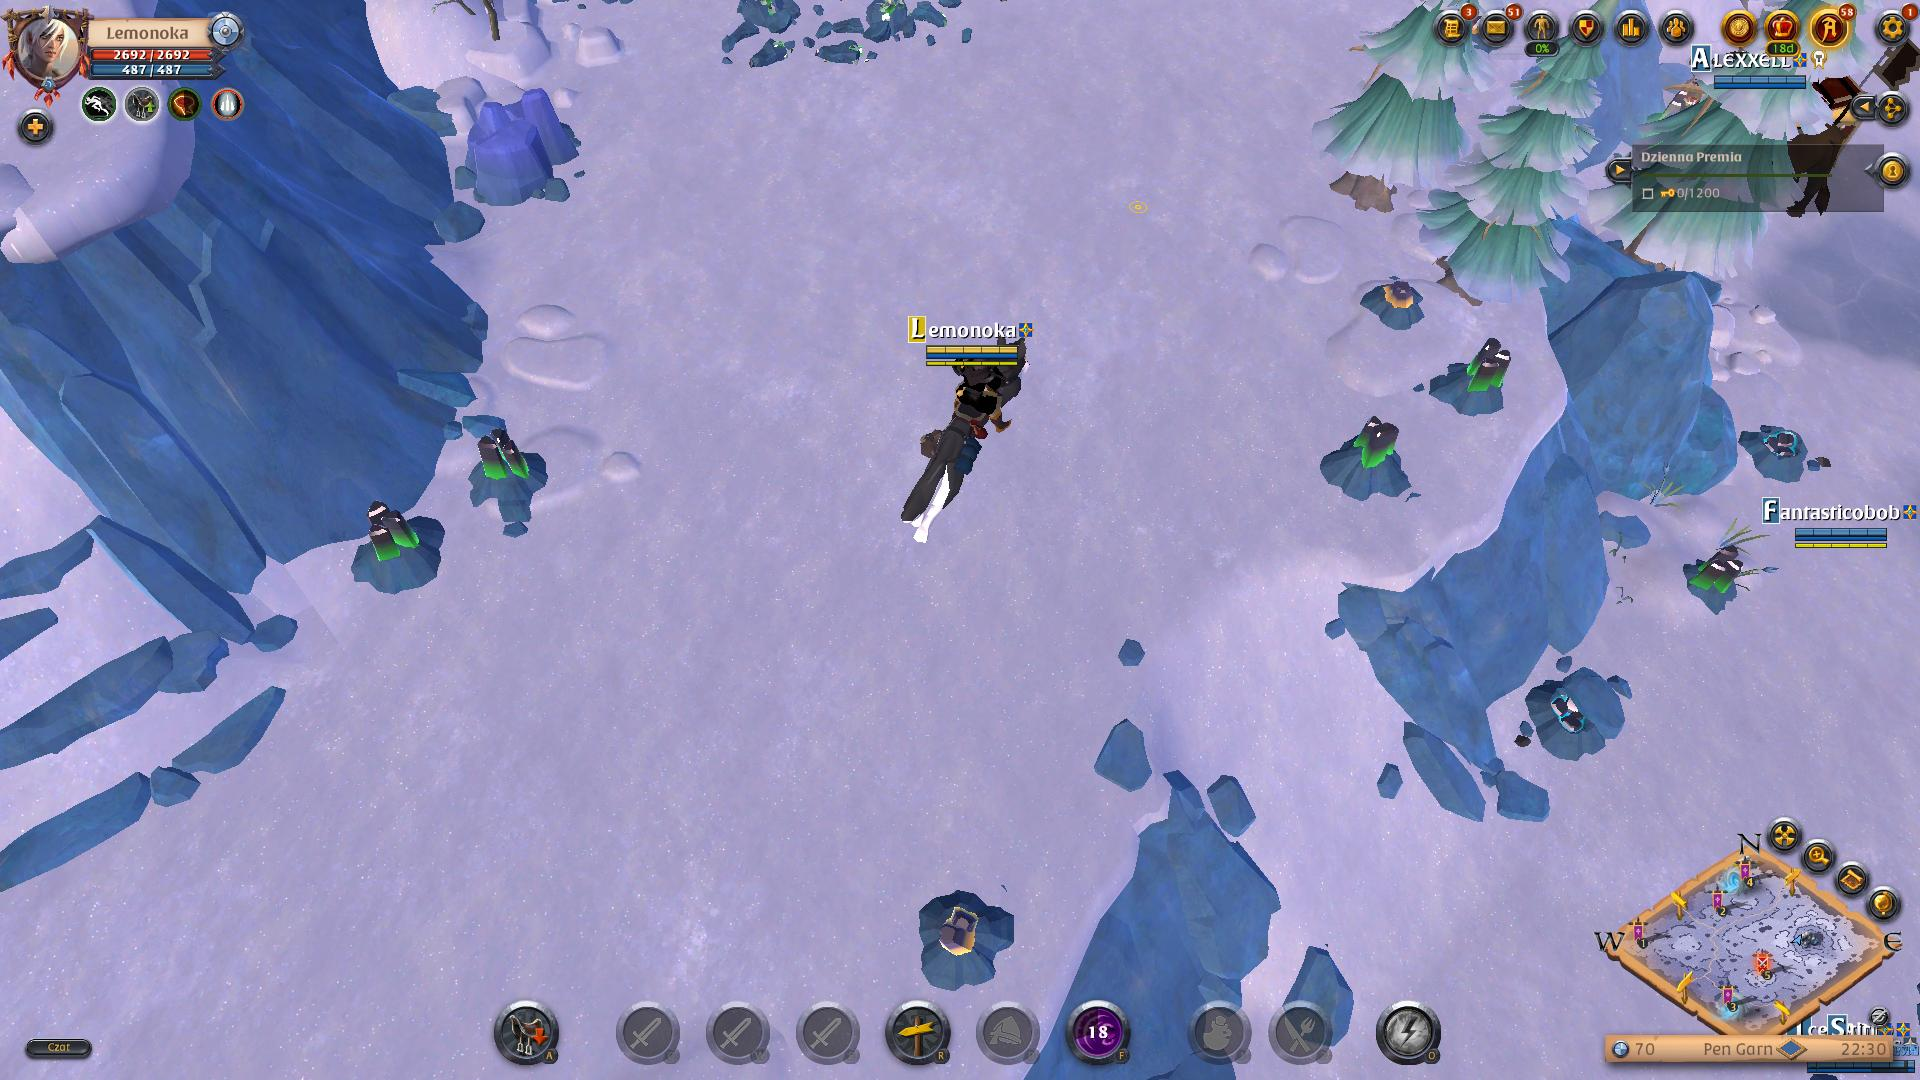ore tier 2: (916, 885, 1025, 997)
ore tier 3: (345, 495, 448, 592), (1316, 411, 1416, 506), (462, 430, 551, 526), (1427, 335, 1511, 422), (1684, 542, 1743, 617)
rock tier 4: (450, 84, 585, 208)
